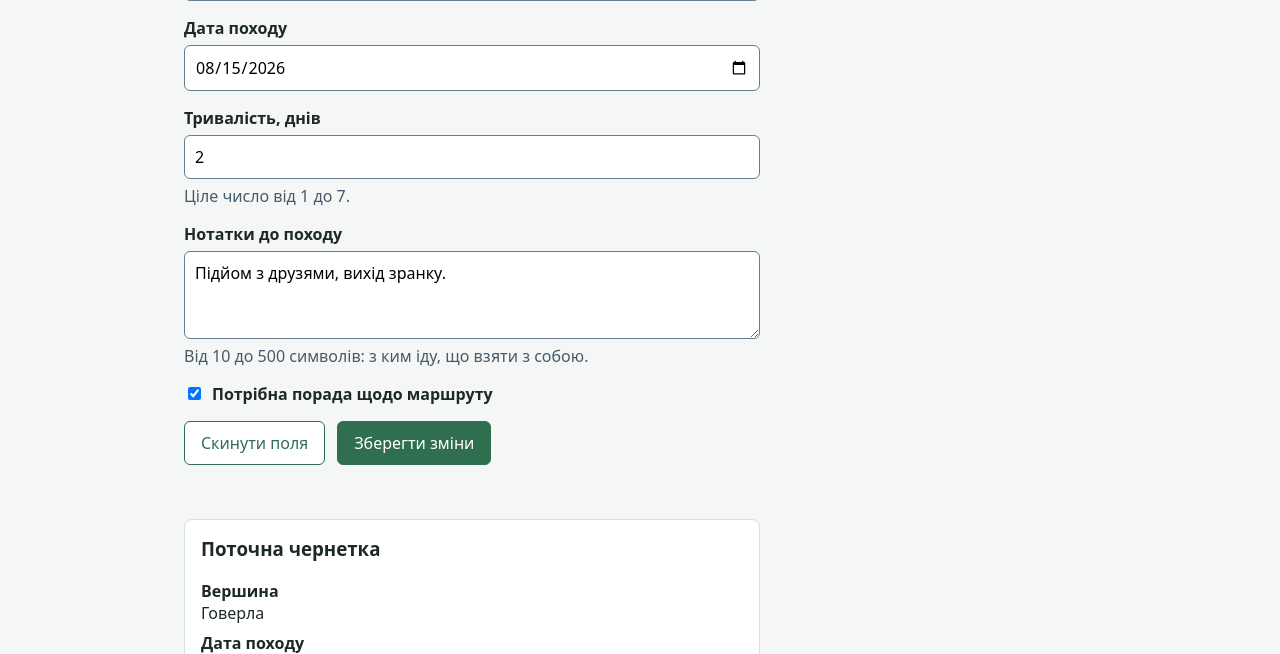
Test: редагування зберігає id і показує нові поля в деталях
(page scrolled)
Replace the text in the text box labelled "Нотатки до походу" with "Оновлені нотатки до походу.". click: (472, 295)
box: [184,251,760,339]
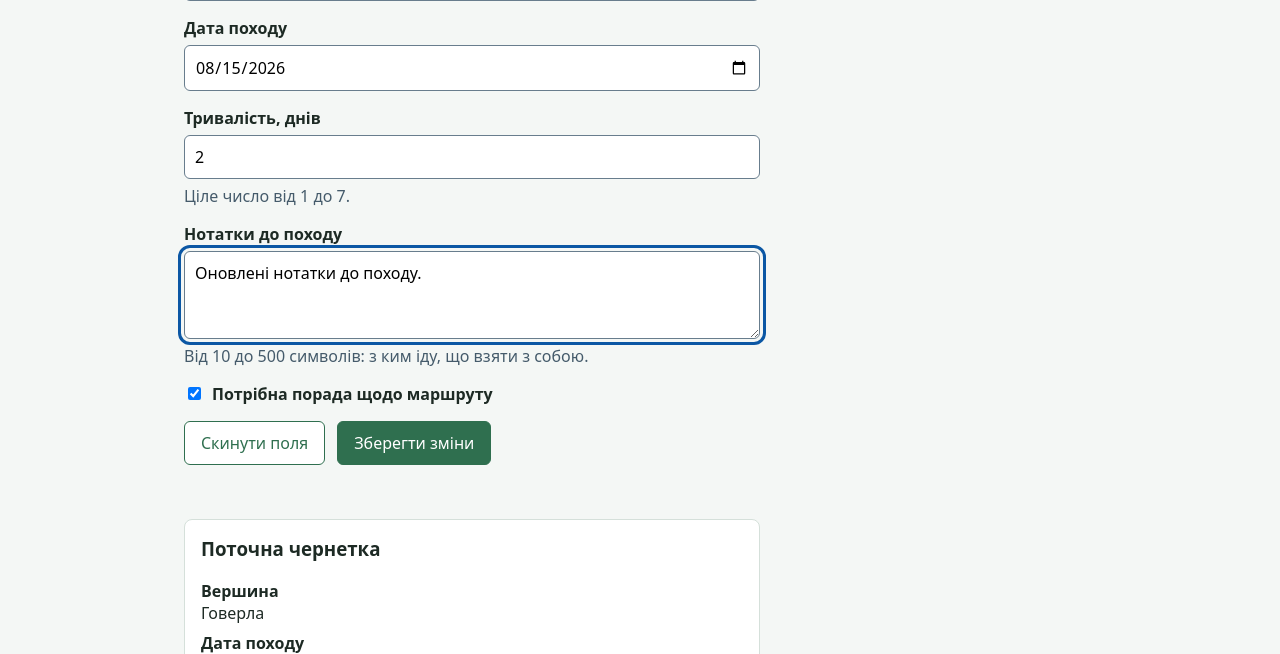
Click the button "Зберегти зміни". click: (414, 443)
box: [337,421,491,465]
(page scrolled)
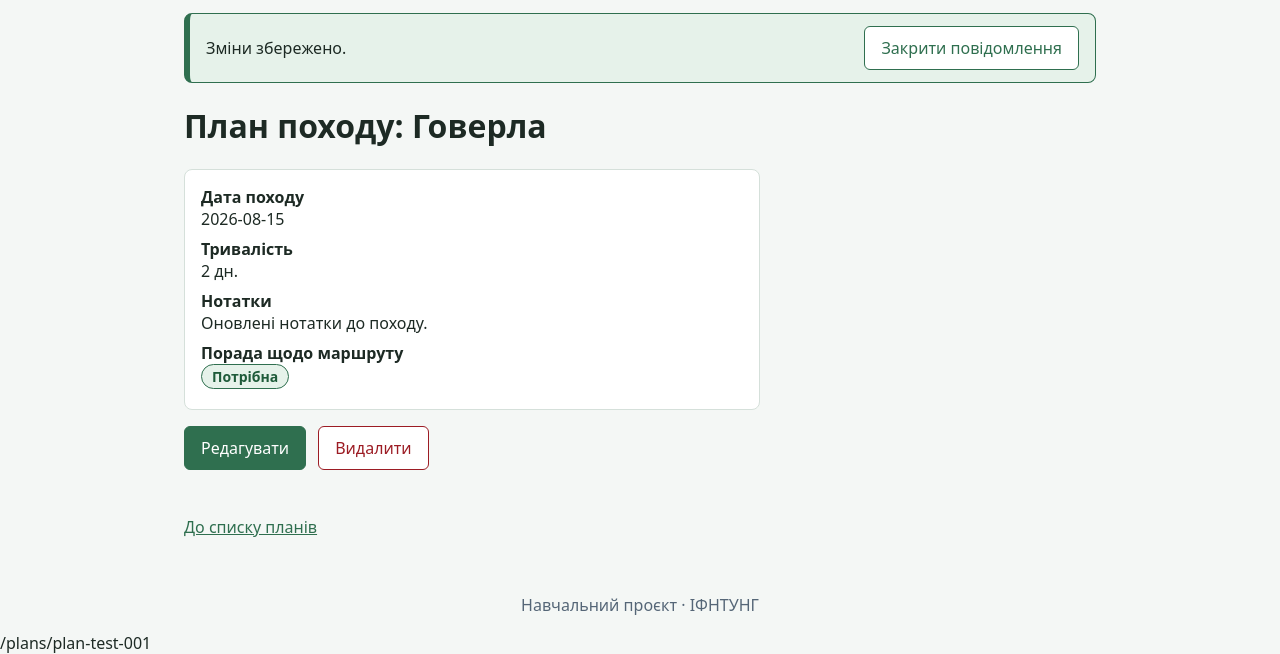
Expected: the text "Оновлені нотатки до походу." is shown, [201,312,428,334]
Expected: the heading "План походу: Говерла" is shown, [184,104,547,147]
Expected: the text with test id "location" reads "/plans/plan-test-001", [0,632,151,653]
